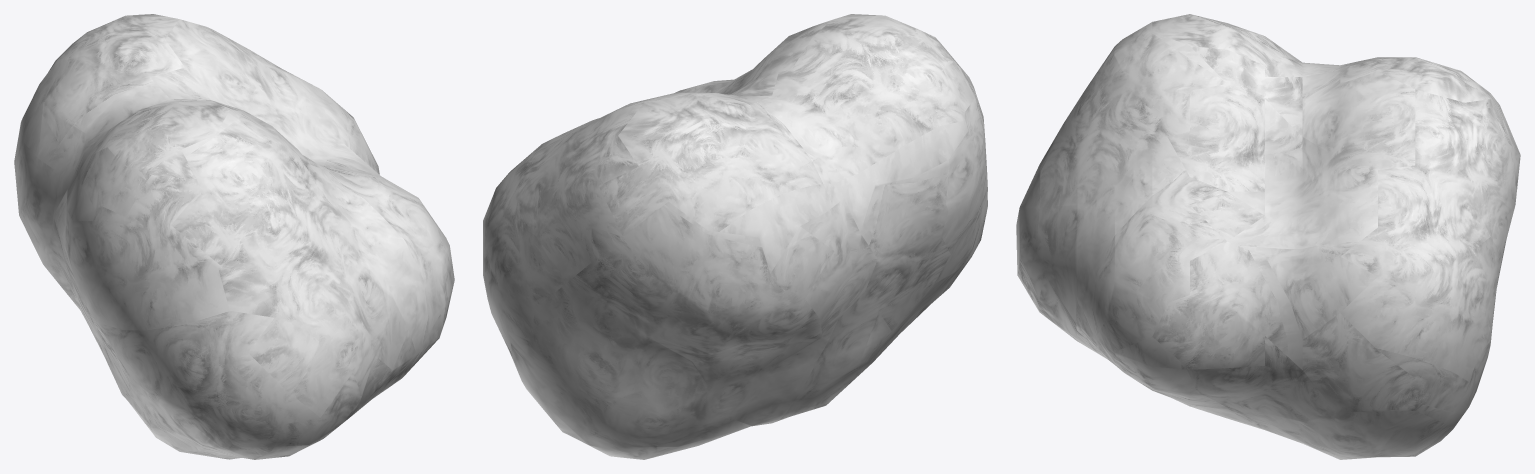
File: cotton.fbx
3 views of the same model, side by side, from view 1: azimuth 30°, elevation 25°; view 2: azimuth 150°, elevation 25°; view 3: azimuth 270°, elevation 25° (orthographic). The views are drawn at different scales.
Parts seen in each view (by area): view 1: Cotton; view 2: Cotton; view 3: Cotton.
Boxes of the visible parts, x1,y1,x2,y2 form: Cotton: [14, 14, 454, 459]; Cotton: [483, 14, 987, 459]; Cotton: [1016, 14, 1520, 459].
Size of the model in its own units: 7.55 by 7.37 by 9.22.
Materials: 1 (1 with a texture image).
